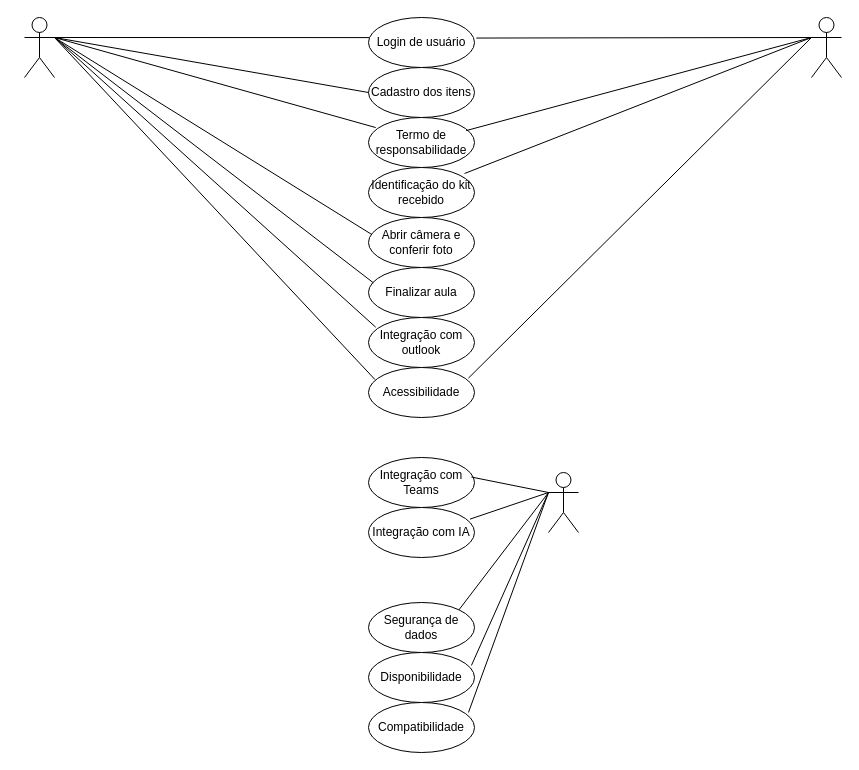
This 859x770 diagram has some shape labels left out. The centre of each missing label's shape, as x and y in pixels:
"Aluno" goes at (826,47).
"Docente" goes at (39,47).
"Sistema" goes at (563,502).
